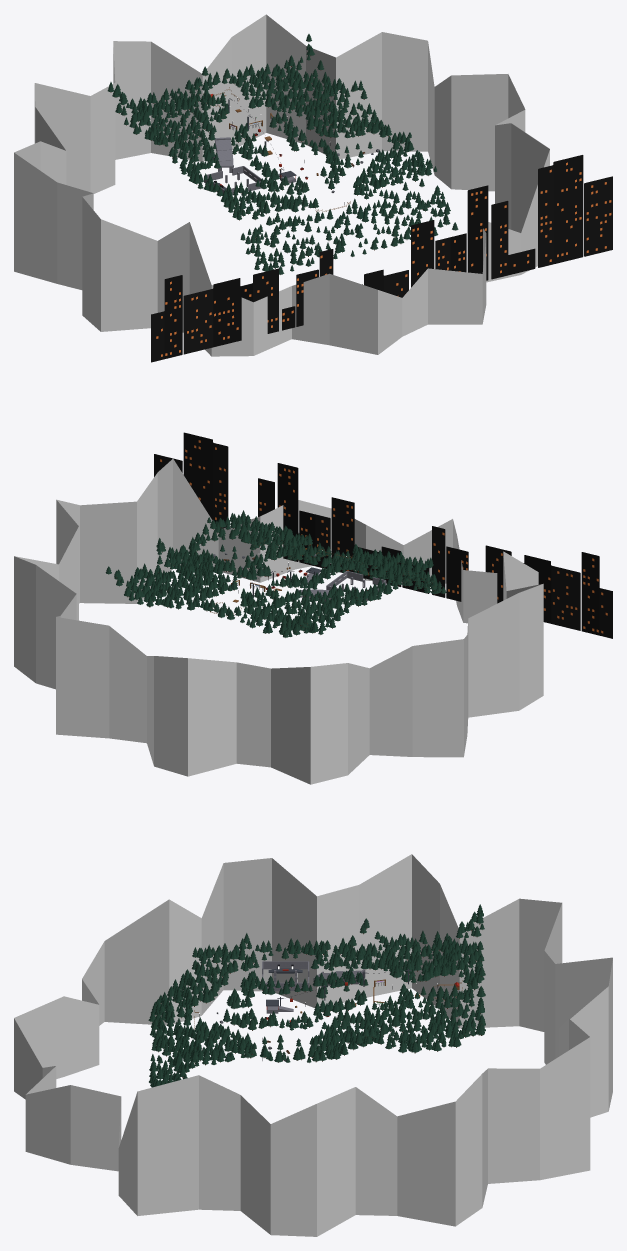
Rendered from Pohorje_Props.fbx.
3 views of the same model, one above another, from view 1: azimuth 30°, elevation 25°; view 2: azimuth 150°, elevation 25°; view 3: azimuth 270°, elevation 25° (orthographic). The views are drawn at different scales.
Visible parts, largest first — view 1: BACKDROP_Mountains, BACKDROP_Skyline, FOREST_-2_4, FOREST_1_4, FOREST_-2_5, FOREST_1_5, FOREST_-2_1, FOREST_-2_0, FOREST_1_1, FOREST_0_0, FOREST_1_0, FOREST_0_4 (+21 smaller); view 2: BACKDROP_Mountains, BACKDROP_Skyline, FOREST_1_1, FOREST_-2_4, FOREST_-2_0, FOREST_0_0, FOREST_-2_1, FOREST_-2_-1, FOREST_1_-1, FOREST_1_4, FOREST_1_0, FOREST_-1_0 (+3 smaller); view 3: BACKDROP_Mountains, FOREST_-2_0, FOREST_-2_1, FOREST_1_4, FOREST_-2_4, FOREST_1_1, FOREST_0_0, FOREST_-1_0, FOREST_1_0, FOREST_0_4, PR_ArenaC, FOREST_1_5 (+17 smaller).
Part boxes in pixels (left/top/right/bottom): BACKDROP_Mountains: left=14, top=14, right=549, bottom=356; BACKDROP_Skyline: left=151, top=155, right=612, bottom=362; FOREST_-2_4: left=361, top=154, right=416, bottom=207; FOREST_1_4: left=238, top=189, right=298, bottom=234; FOREST_-2_5: left=379, top=192, right=424, bottom=246; FOREST_1_5: left=260, top=222, right=311, bottom=274; FOREST_-2_1: left=289, top=96, right=344, bottom=128; FOREST_-2_0: left=263, top=77, right=324, bottom=106; FOREST_1_1: left=167, top=119, right=216, bottom=158; FOREST_0_0: left=181, top=89, right=229, bottom=123; FOREST_1_0: left=144, top=101, right=200, bottom=136; FOREST_0_4: left=282, top=182, right=333, bottom=225; BACKDROP_Mountains: left=14, top=459, right=543, bottom=784; BACKDROP_Skyline: left=154, top=432, right=612, bottom=638; FOREST_1_1: left=291, top=587, right=349, bottom=614; FOREST_-2_4: left=240, top=521, right=298, bottom=548; FOREST_-2_0: left=151, top=570, right=210, bottom=596; FOREST_0_0: left=240, top=584, right=285, bottom=616; FOREST_-2_1: left=172, top=556, right=230, bottom=579; FOREST_-2_-1: left=129, top=583, right=180, bottom=607; FOREST_1_-1: left=249, top=609, right=304, bottom=637; FOREST_1_4: left=366, top=550, right=419, bottom=576; FOREST_1_0: left=271, top=597, right=322, bottom=627; FOREST_-1_0: left=188, top=576, right=237, bottom=598; BACKDROP_Mountains: left=14, top=854, right=612, bottom=1236; FOREST_-2_0: left=391, top=1002, right=448, bottom=1041; FOREST_-2_1: left=340, top=1005, right=394, bottom=1043; FOREST_1_4: left=183, top=956, right=238, bottom=1004; FOREST_-2_4: left=183, top=1024, right=241, bottom=1072; FOREST_1_1: left=341, top=942, right=395, bottom=970; FOREST_0_0: left=392, top=956, right=449, bottom=983; FOREST_-1_0: left=393, top=983, right=450, bottom=1014; FOREST_1_0: left=395, top=940, right=448, bottom=967; FOREST_0_4: left=183, top=981, right=240, bottom=1025; PR_ArenaC: left=262, top=961, right=309, bottom=990; FOREST_1_5: left=148, top=983, right=186, bottom=1035.
Bounding box in the file's own units: 46000 × 14500 × 45841.
